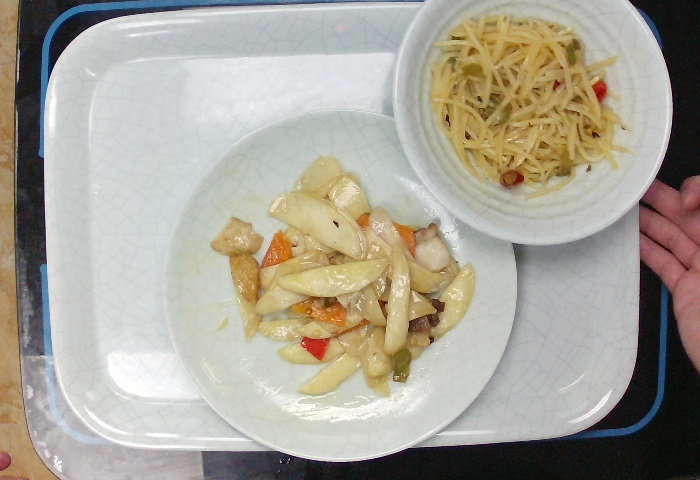JYsf-Da_Yuan_Pan: (162, 105, 524, 457)
JYsf-Xiao_Tang_Wan: (390, 1, 674, 247)
